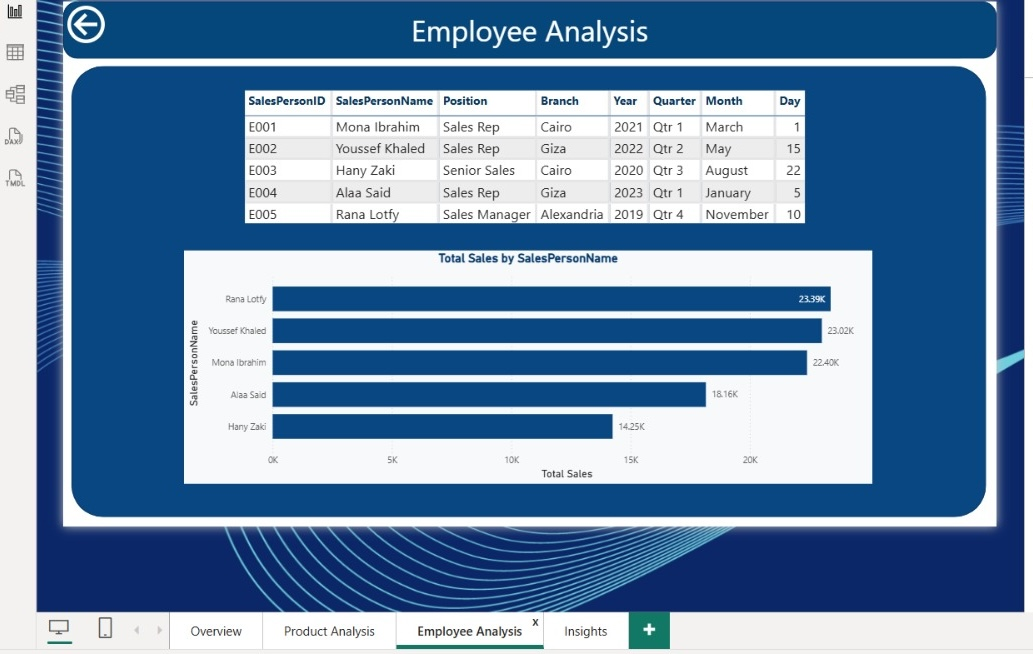

What the dashboard file says about the page in this screenshot:
{"tool":"powerbi","page":{"name":"Employee Analysis","canvas":[1280,720],"ordinal":2},"visuals":[{"type":"shape","box":[0,0,1280,78.3],"z":0},{"type":"shape","box":[11.4,88.6,1254.3,618.6],"z":1000},{"type":"tableEx","fields":{"Values":["Employees.SalesPersonID","Employees.SalesPersonName","Employees.Position","Employees.Branch","Employees.HireDate.Variation.Date Hierarchy.Year","Employees.HireDate.Variation.Date Hierarchy.Quarter","Employees.HireDate.Variation.Date Hierarchy.Month","Employees.HireDate.Variation.Date Hierarchy.Day"]},"box":[242.9,117.1,792.9,201.4],"z":2000},{"type":"actionButton","box":[0,0,102.9,62.9],"z":3000},{"type":"barChart","fields":{"Category":["Employees.SalesPersonName"],"Y":["Measures (2).Total Sales"]},"box":[165.7,341.4,944.3,320],"z":4000}]}

Visuals, with their boxes on the page's 1280x720 design canvas (x1, y1, x2, y2). These are canvas units, not pixel positions in the 1033x654 screenshot, which may show the page scaled, cropped or inside an application window:
shape: l=0, t=0, r=1280, b=78
shape: l=11, t=89, r=1266, b=707
tableEx - Employees.SalesPersonID x Employees.SalesPersonName: l=243, t=117, r=1036, b=318
actionButton: l=0, t=0, r=103, b=63
barChart - Employees.SalesPersonName x Measures (2).Total Sales: l=166, t=341, r=1110, b=661
